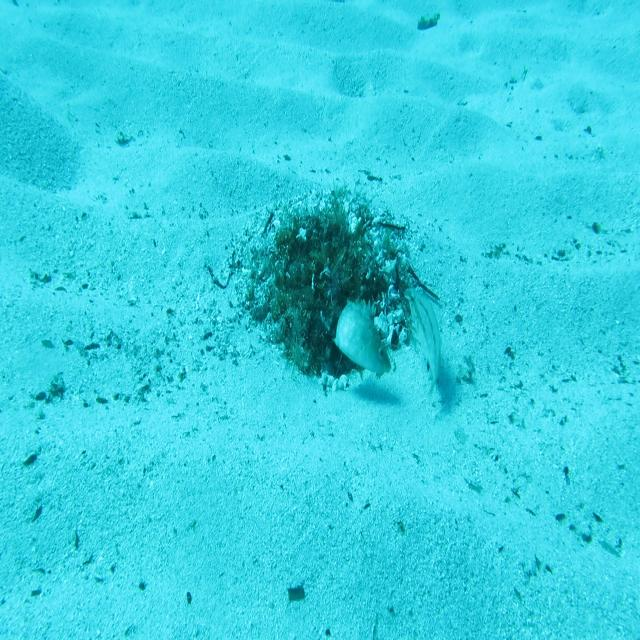DAN_CIRC: (332, 296, 392, 382)
core_nest: (306, 222, 351, 274)
female: (404, 284, 444, 412)
nest: (226, 181, 436, 408)
vegetation: (415, 14, 441, 34), (287, 584, 306, 604)
